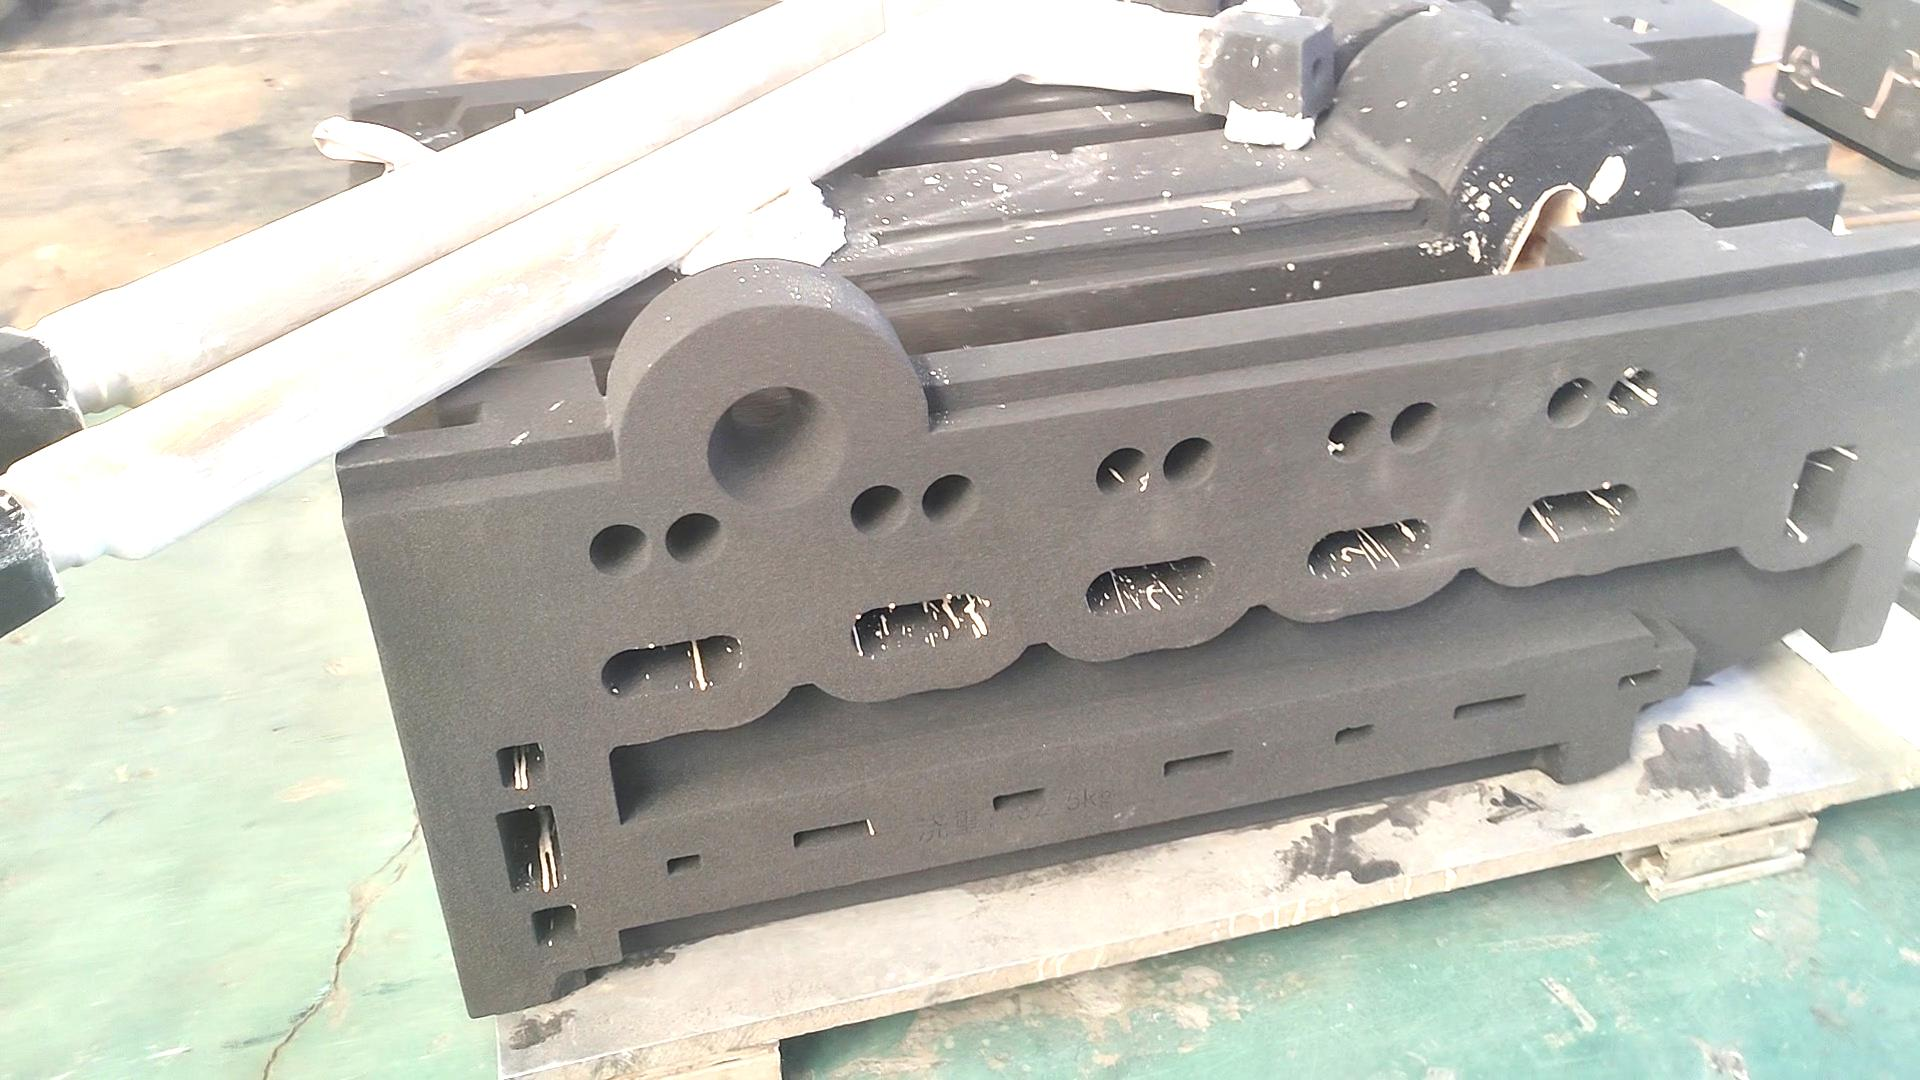pouring hole: (708, 386, 845, 510)
